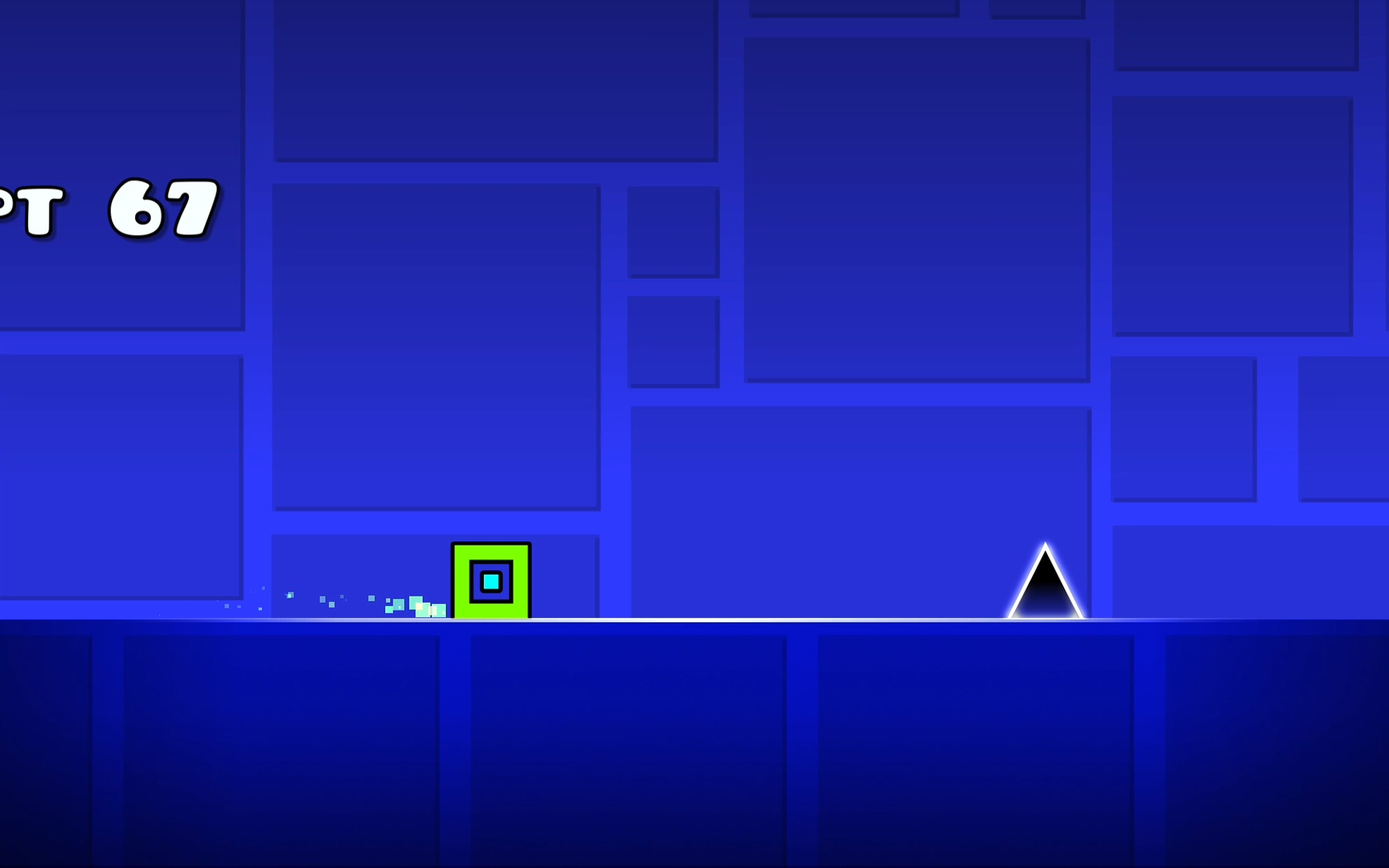Player: (449, 542, 533, 618)
Spike: (1006, 542, 1084, 619)
